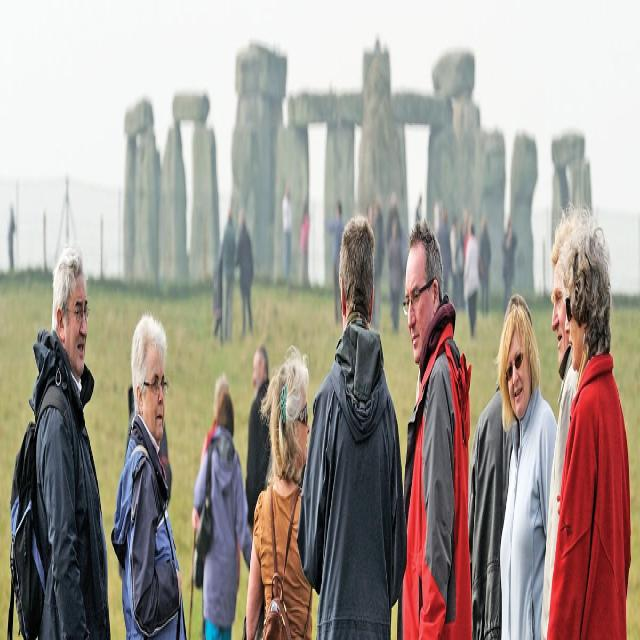body: (295, 205, 409, 638), (2, 246, 111, 638), (278, 175, 528, 338), (546, 222, 632, 640), (394, 217, 476, 638), (108, 306, 189, 638), (538, 201, 592, 640), (496, 296, 558, 640), (244, 344, 314, 640), (191, 385, 253, 640), (468, 371, 514, 640), (210, 205, 256, 344), (244, 342, 273, 534), (200, 371, 232, 461), (5, 202, 17, 275), (234, 530, 242, 602)
